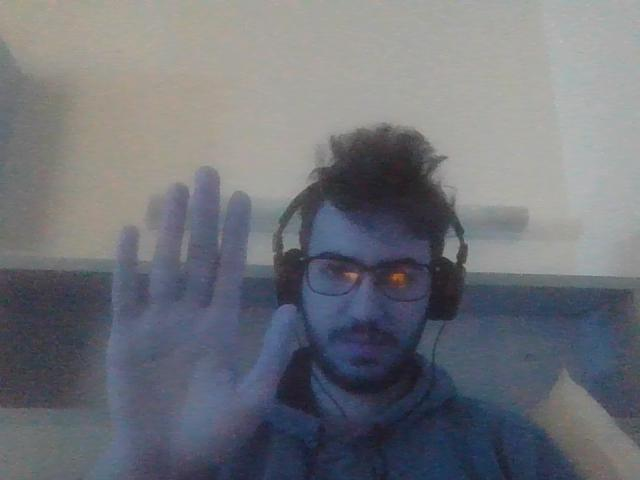Hello: (109, 195, 260, 453)
